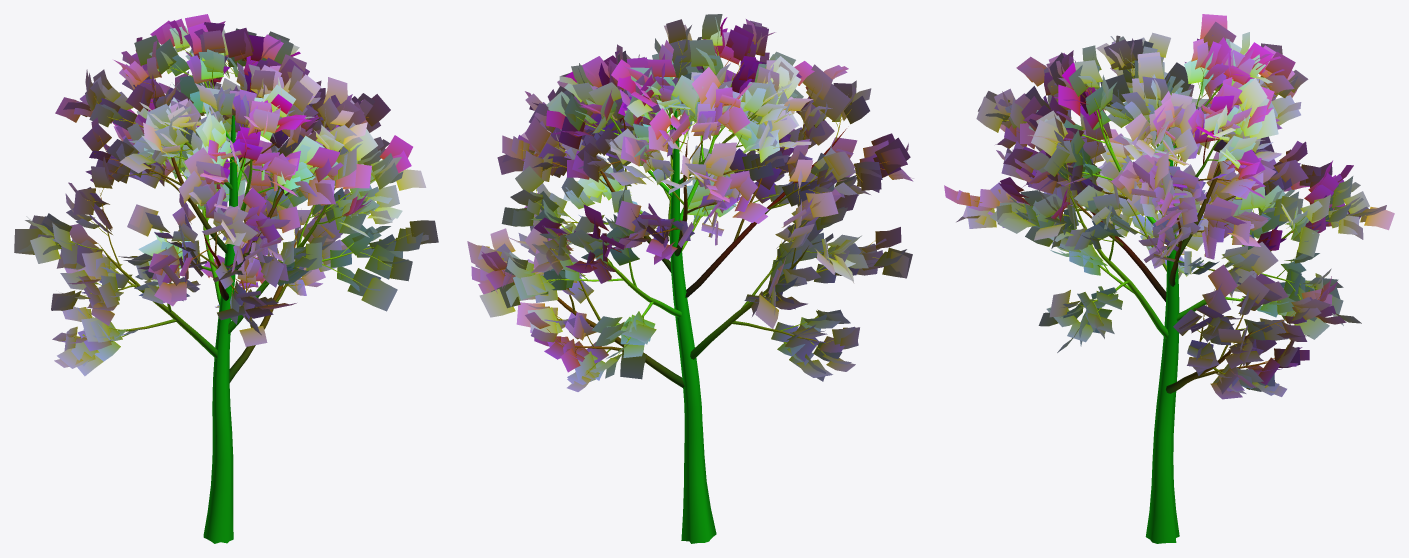
Rendered from carpinus_betulus.glb.
3 renders of one model, left to right at view 1: azimuth 30°, elevation 25°; view 2: azimuth 150°, elevation 25°; view 3: azimuth 270°, elevation 25°, orthographic. The views are drawn at different scales.
Visible parts, largest first — view 1: carpinus_betulus_lod0; view 2: carpinus_betulus_lod0; view 3: carpinus_betulus_lod0.
Part boxes in pixels (x1,y1,x2,y2): carpinus_betulus_lod0: (14, 14, 438, 543); carpinus_betulus_lod0: (467, 14, 913, 543); carpinus_betulus_lod0: (944, 14, 1394, 543).
Size of what is drawn, in the model's own units: 9.63 by 12.66 by 10.25.
